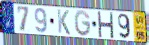7: (16, 6, 30, 34)
9: (34, 7, 48, 35), (118, 13, 131, 41)
G: (74, 9, 92, 38)
H: (97, 11, 115, 40)
K: (56, 8, 71, 36)
